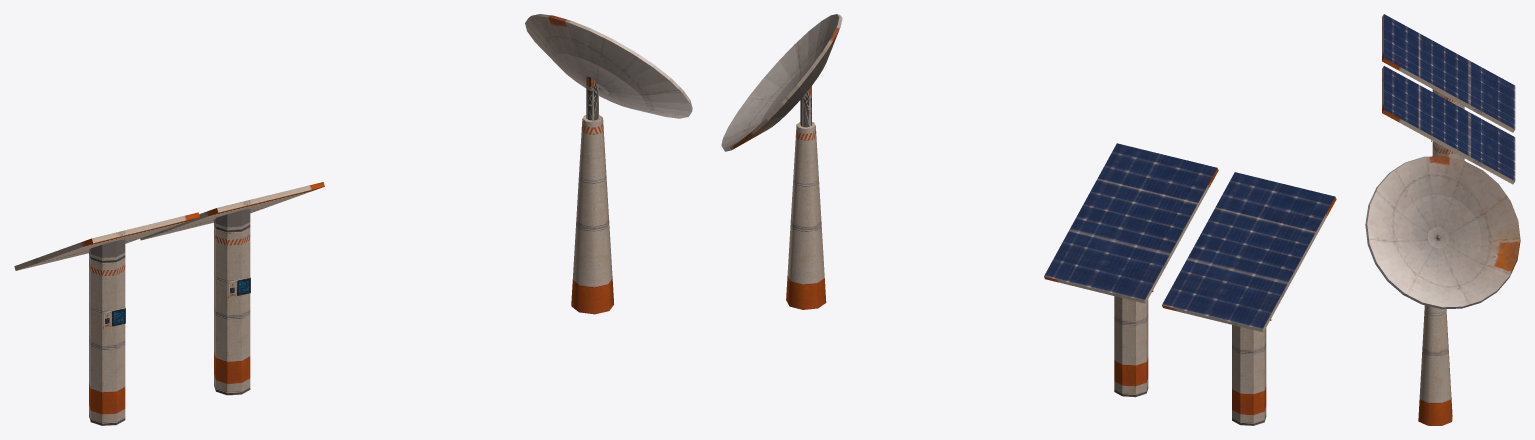
Rendered from prop_lab.dae.
3 renders of one model, left to right at view 1: azimuth 30°, elevation 25°; view 2: azimuth 150°, elevation 25°; view 3: azimuth 270°, elevation 25°, orthographic. The views are drawn at different scales.
Parts seen in each view (by area): view 1: prop_lab; view 2: prop_lab; view 3: prop_lab.
Part boxes in pixels (box(x1,y1,x2,y2)): prop_lab: box(14, 14, 692, 425); prop_lab: box(721, 14, 1336, 425); prop_lab: box(1365, 14, 1520, 425).
Size of the model in its own units: 42.41 by 11.02 by 19.75.
